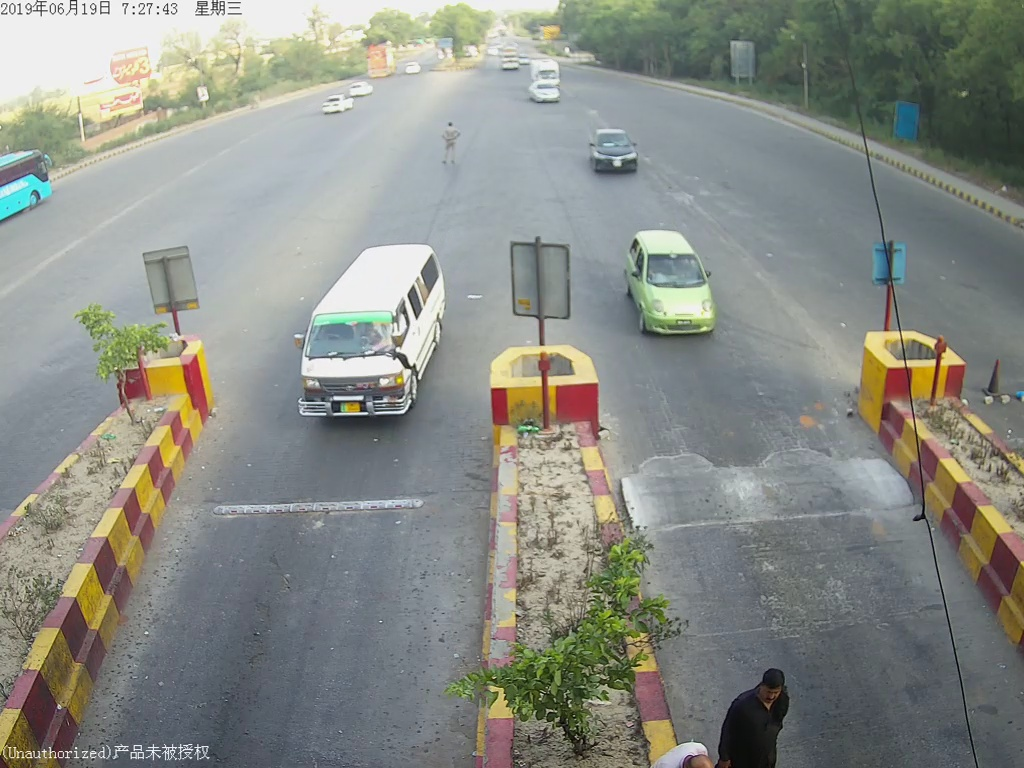Cat-1: (621, 228, 729, 343), (584, 124, 640, 179)
Cat-2: (291, 234, 459, 434)
